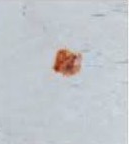Corrosion: (52, 47, 83, 77)
